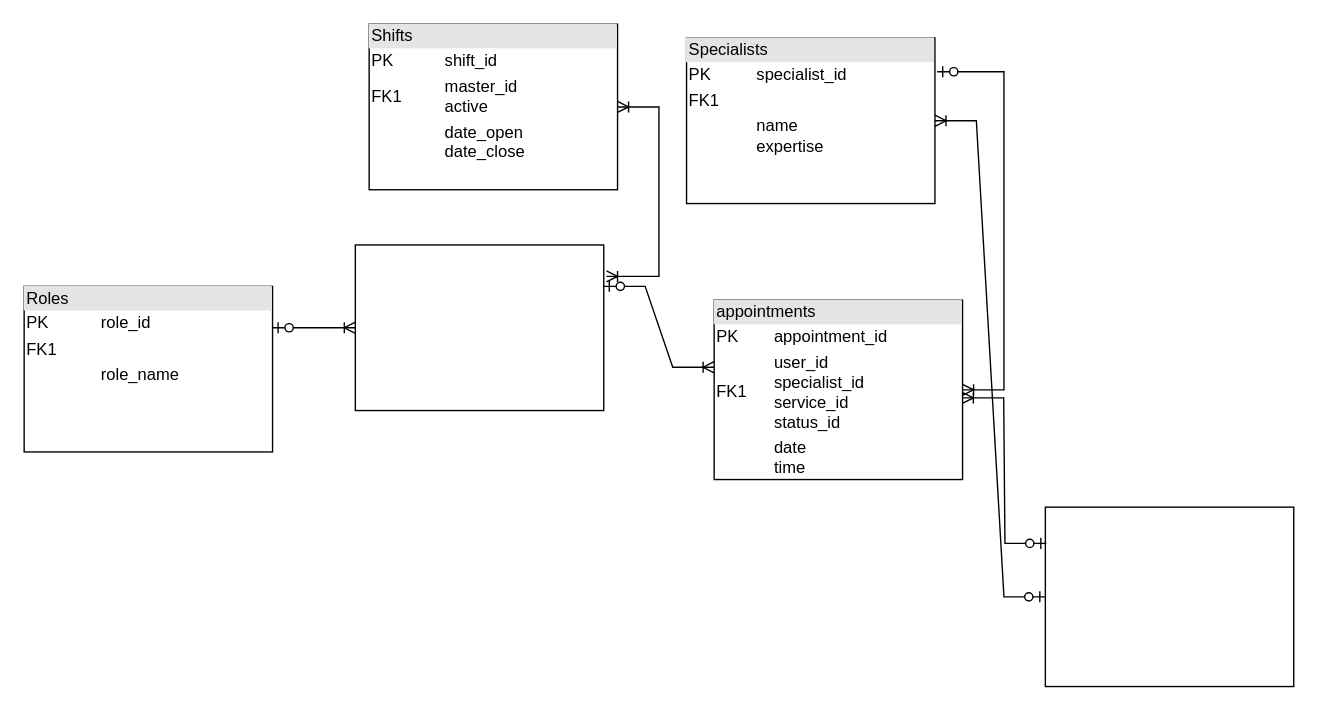
Image size: 1318x711. Some labels were removed from this diagram. Here are the shapes that lost their labels. From the top down, the centre of each, then its label:
(x=479, y=327): Users PK user_id login FK1 role_id active name password
(x=1169, y=596): services PK service_id FK1 price duration specialist_id service_name
